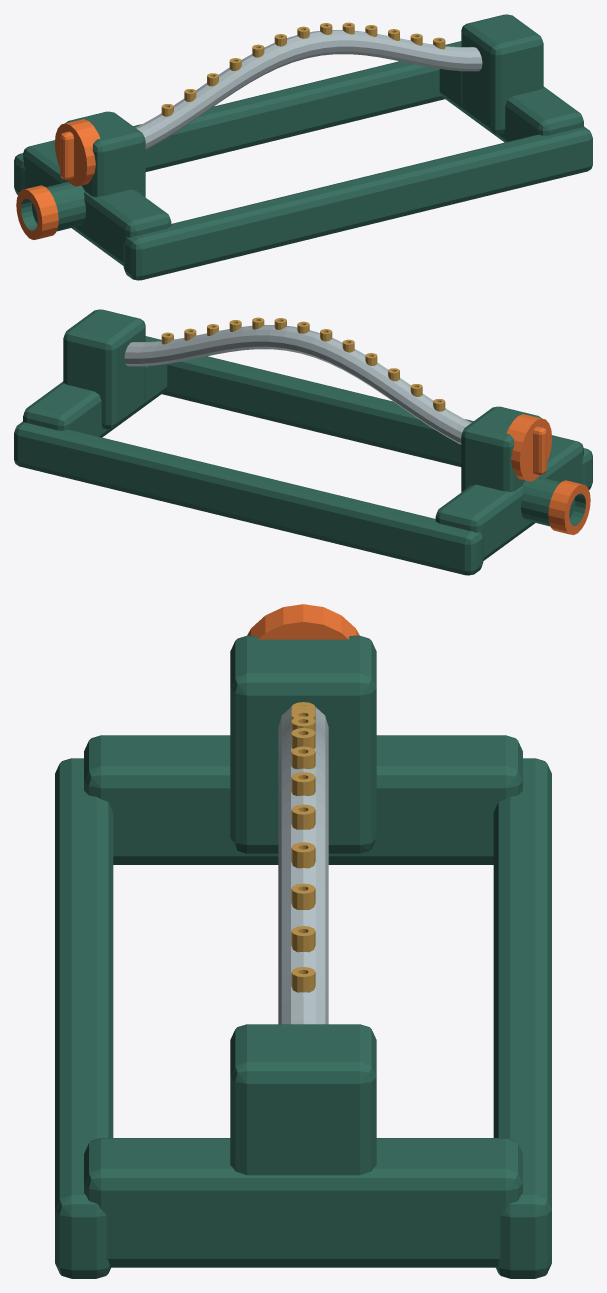
Rendered from NEW_RECOVERY_113_LOD0.fbx.
3 views of the same model, one above another, from view 1: azimuth 30°, elevation 25°; view 2: azimuth 150°, elevation 25°; view 3: azimuth 270°, elevation 25° (orthographic). The views are drawn at different scales.
Parts seen in each view (by area): view 1: Oscillating sprinkler static prop; view 2: Oscillating sprinkler static prop; view 3: Oscillating sprinkler static prop.
Part boxes in pixels (x1=…): Oscillating sprinkler static prop: x1=14, y1=14, x2=592, y2=280; Oscillating sprinkler static prop: x1=14, y1=309, x2=592, y2=575; Oscillating sprinkler static prop: x1=55, y1=604, x2=551, y2=1278.
Size of the model in its own units: 55.8 by 23.8 by 16.3.
